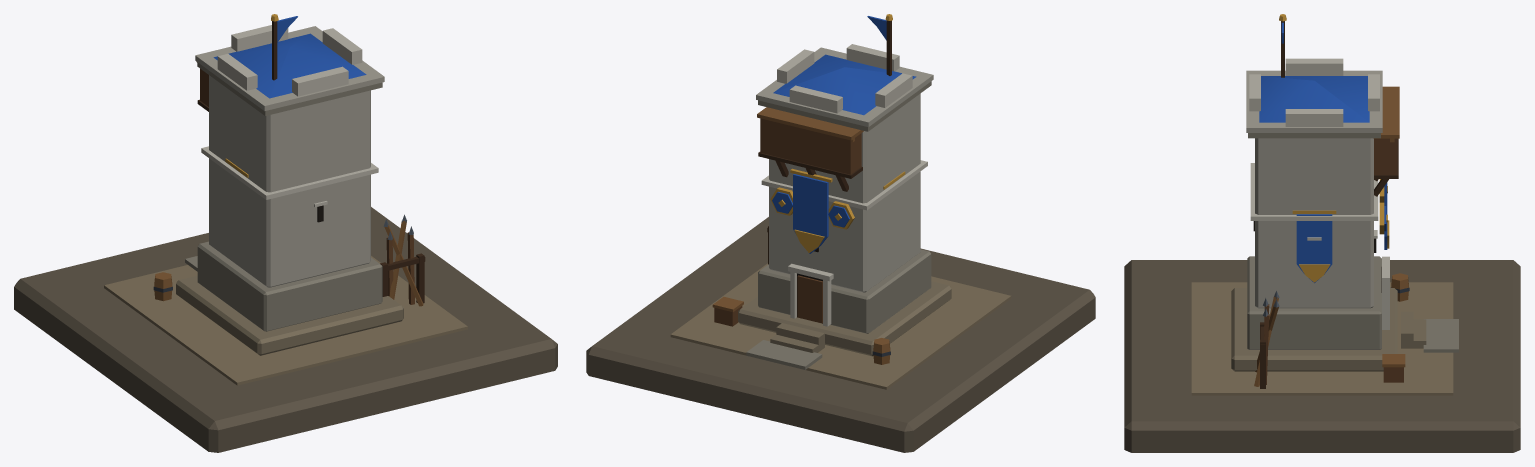
The picture shows the model from 3 angles, left to right: view 1: azimuth 30°, elevation 25°; view 2: azimuth 150°, elevation 25°; view 3: azimuth 270°, elevation 25°; orthographic projection. The views are drawn at different scales.
Visible parts, largest first — view 1: 箭塔_1星; view 2: 箭塔_1星; view 3: 箭塔_1星.
Part boxes in pixels (box(x1,y1,x2,y2)): 箭塔_1星: box(14, 14, 557, 452); 箭塔_1星: box(586, 14, 1095, 452); 箭塔_1星: box(1124, 14, 1520, 452).
Size of the model in its own units: 1 by 0.944 by 1.
